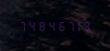eight: (35, 20, 43, 31)
four: (26, 20, 34, 31), (44, 20, 52, 31)
nine: (80, 20, 88, 31)
one: (71, 20, 79, 31)
seven: (17, 20, 25, 31), (62, 20, 70, 31)
six: (53, 20, 61, 31)
